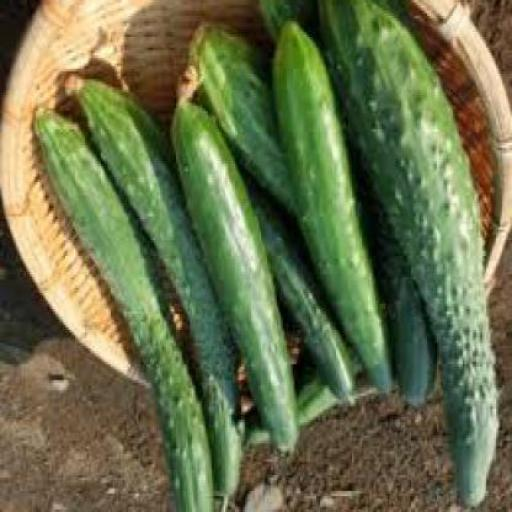biodegradable: (316, 2, 498, 510), (65, 76, 238, 511), (36, 111, 213, 511), (168, 74, 298, 456), (271, 26, 389, 391), (184, 32, 292, 224), (259, 190, 354, 407), (368, 172, 437, 409), (240, 338, 374, 448)
